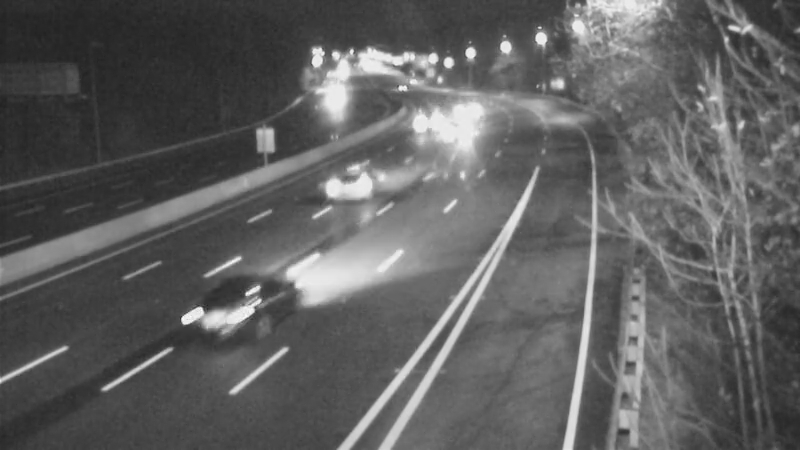vehicle: (168, 254, 278, 364), (303, 152, 383, 232), (440, 85, 490, 135), (397, 96, 447, 146), (438, 109, 488, 159), (306, 73, 356, 123)
